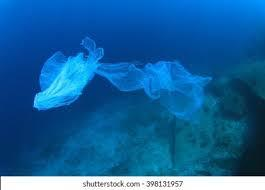Trash: (27, 35, 216, 124)
